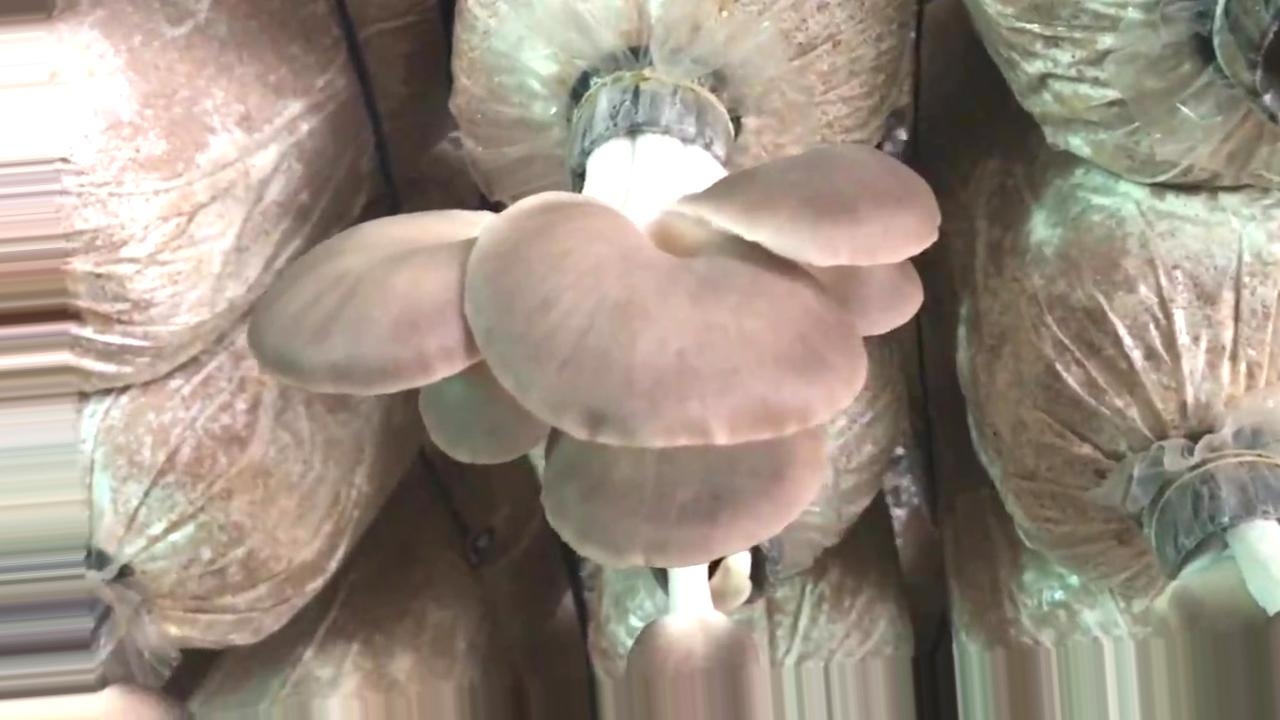nam: (252, 77, 942, 568), (1166, 465, 1279, 720), (623, 542, 766, 719)
